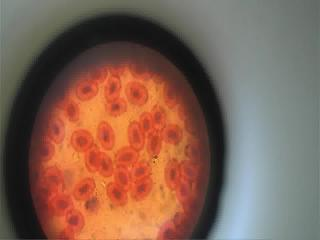cell: (126, 77, 150, 108), (96, 119, 118, 150), (70, 127, 96, 149), (46, 118, 69, 142), (34, 143, 60, 163), (46, 168, 68, 191), (164, 156, 178, 192), (51, 194, 77, 213), (162, 124, 184, 146), (106, 183, 128, 205), (74, 80, 98, 100), (128, 123, 146, 149), (69, 209, 89, 232), (115, 146, 138, 165), (74, 179, 98, 197), (182, 161, 202, 182), (84, 63, 106, 82), (152, 106, 171, 128), (67, 100, 85, 123), (85, 144, 98, 174), (131, 162, 157, 177), (106, 102, 130, 118), (149, 130, 162, 158), (132, 180, 154, 196), (108, 75, 122, 100), (140, 112, 154, 133), (101, 154, 113, 178), (116, 168, 130, 188)
